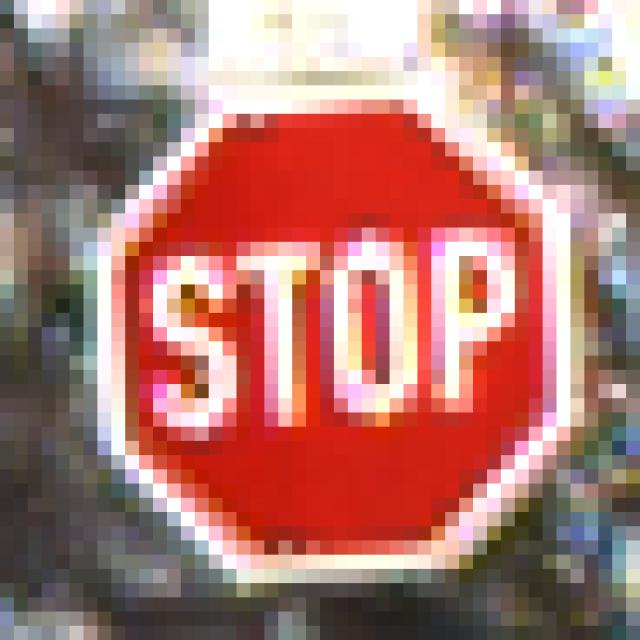STOP: (85, 72, 572, 570)
